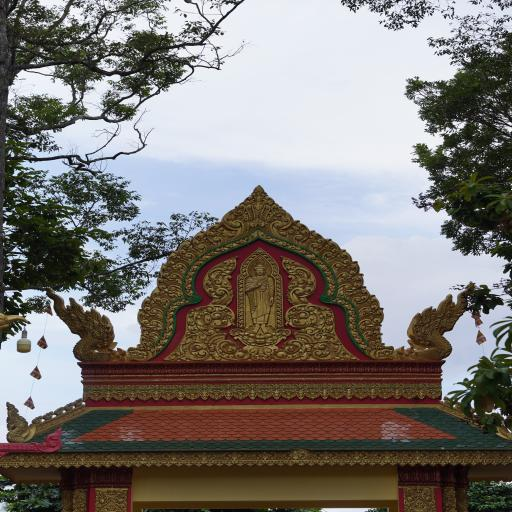ran: (42, 284, 132, 368), (400, 278, 486, 365), (243, 263, 277, 338), (2, 398, 41, 442)
